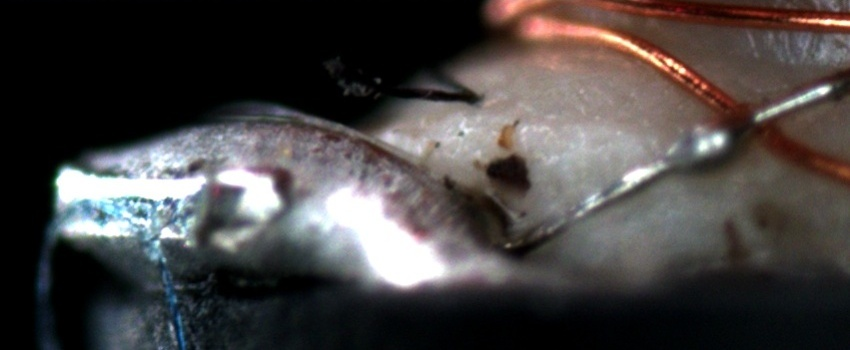DL: (522, 107, 675, 157)
TB: (666, 122, 746, 178)
TS: (502, 80, 837, 254)
TTCW: (492, 53, 849, 255)
